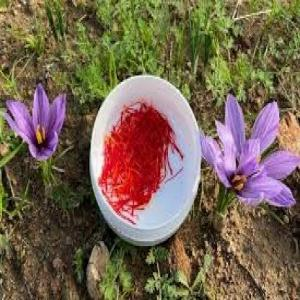Saffron: (202, 97, 296, 208), (1, 84, 65, 160)
